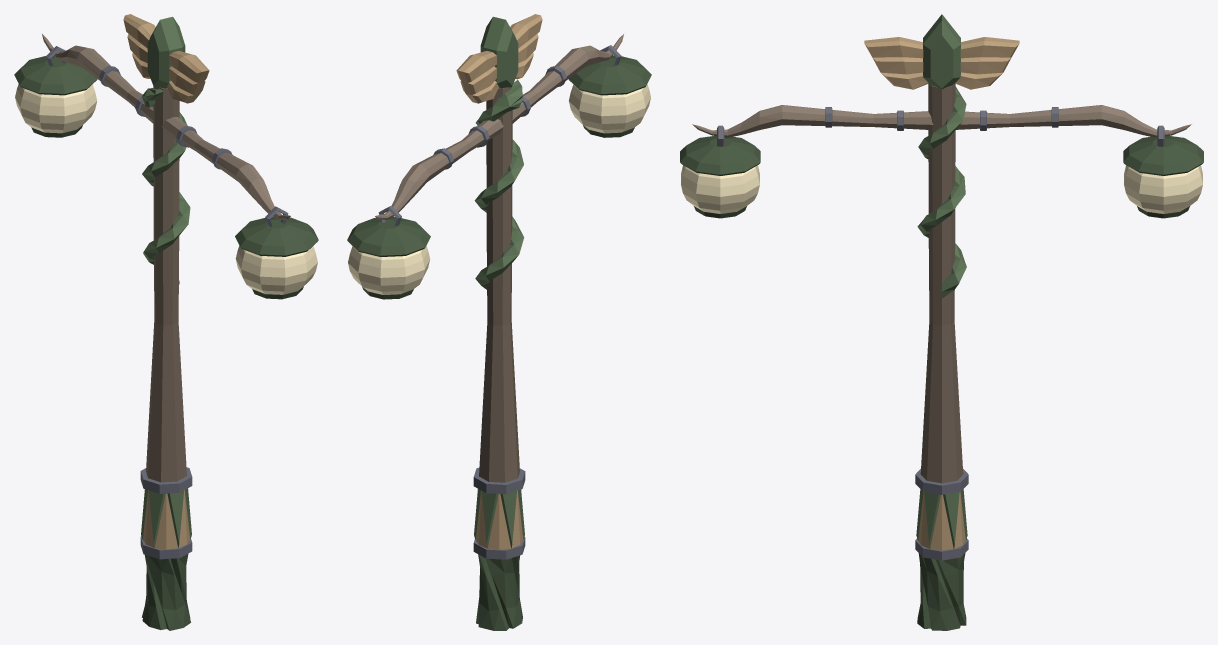
File: _lamp_2.fbx
3 renders of one model, left to right at view 1: azimuth 30°, elevation 25°; view 2: azimuth 150°, elevation 25°; view 3: azimuth 270°, elevation 25°, orthographic.
Visible parts, largest first — view 1: lamp_2; view 2: lamp_2; view 3: lamp_2.
Part boxes in pixels (x1,y1,x2,y2): lamp_2: (14, 14, 318, 630); lamp_2: (347, 14, 651, 630); lamp_2: (680, 14, 1203, 630).
Size of the model in its own units: 49.55 by 390 by 306.
